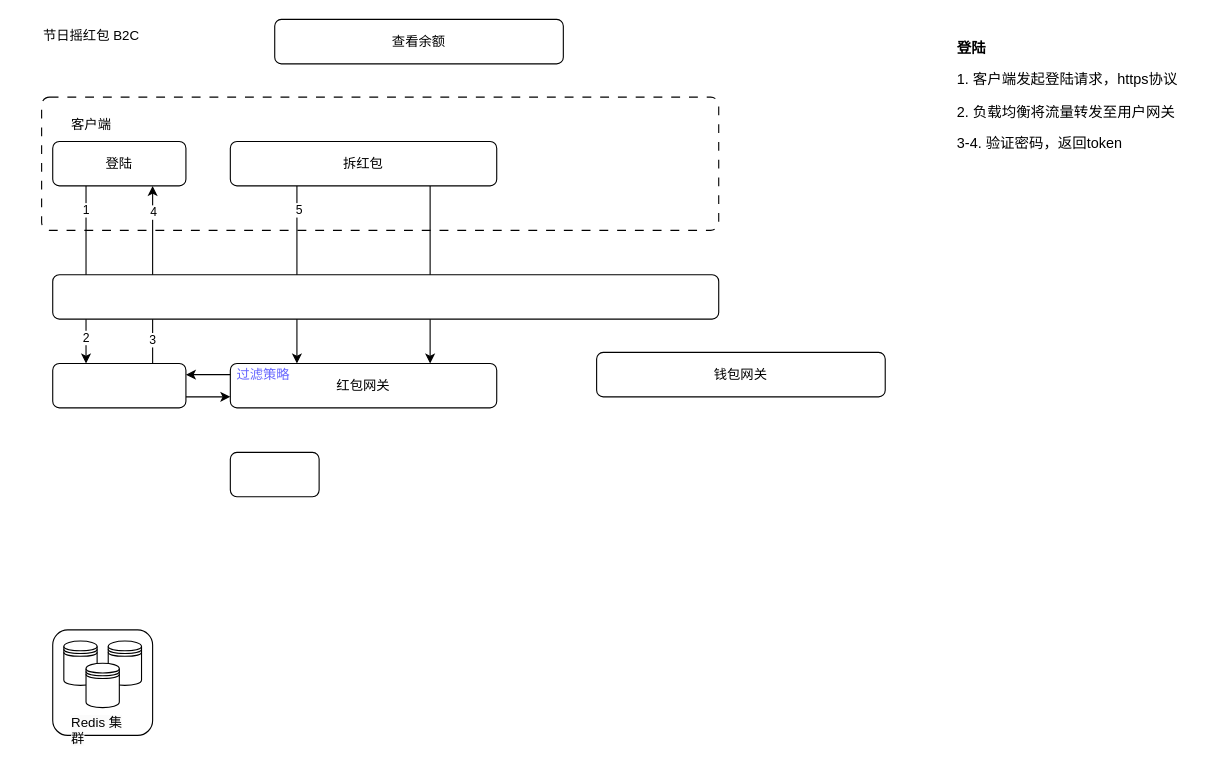
The diagram is 1214 pixels wide and 767 high, and some of its shapes have lost their labels. Here are the shapes that lost their labels. From the top down, the centre of each, then its label:
At (x=385, y=296): "负载均衡、验权".
At (x=119, y=385): "用户网关".
